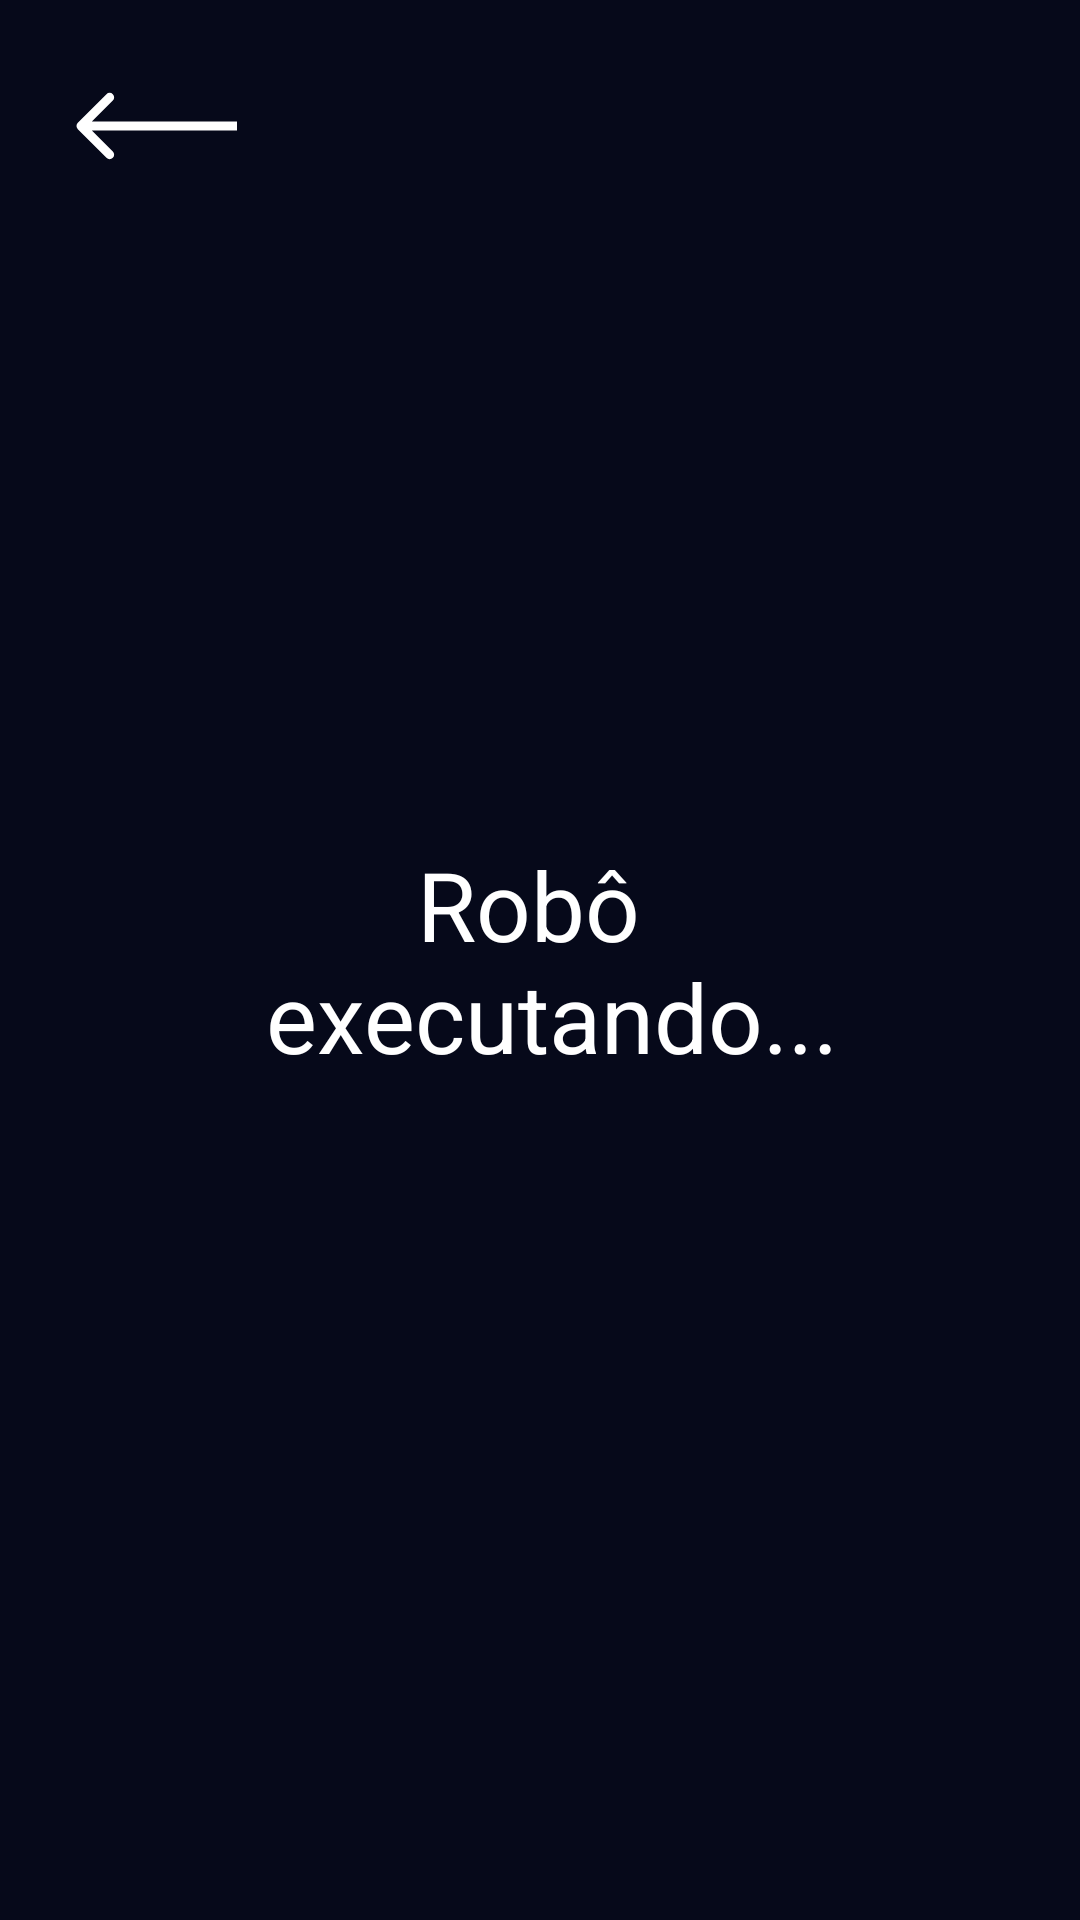

Icons on this 1080 x 1920 Android screen, each with its box as (x1, y1, x2, y2):
phases back arrow: (76, 92, 237, 160)
